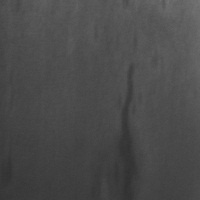inclusion: (112, 61, 144, 199), (1, 137, 18, 192), (88, 150, 106, 199)
